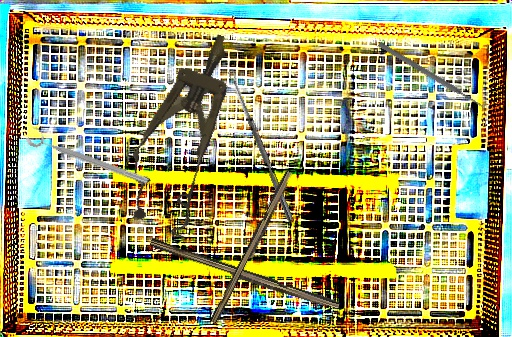Fixation Ring: (24, 124, 153, 188)
Pusher: (376, 40, 488, 112)
Scalpel Handle: (147, 237, 342, 314), (209, 168, 296, 327)
Speculum: (111, 21, 260, 240)
Surgical Spoon: (227, 69, 296, 224)
